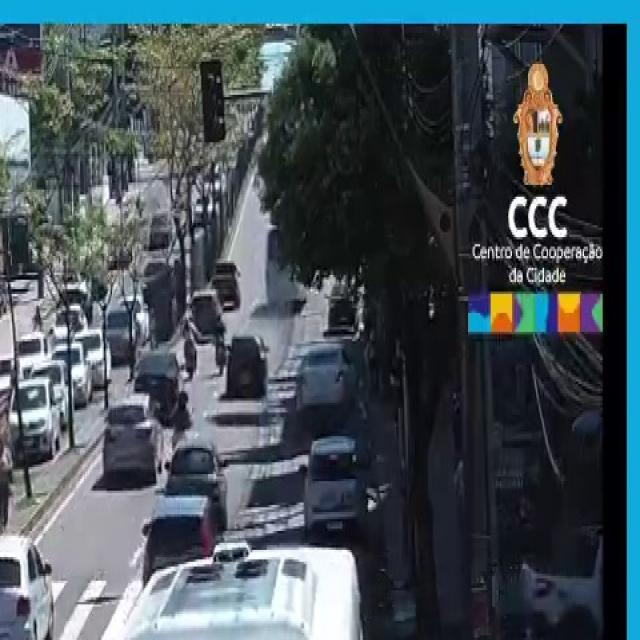car: (300, 424, 363, 536), (102, 393, 163, 493), (0, 528, 54, 640)
truck: (43, 540, 380, 640), (0, 374, 17, 564)
